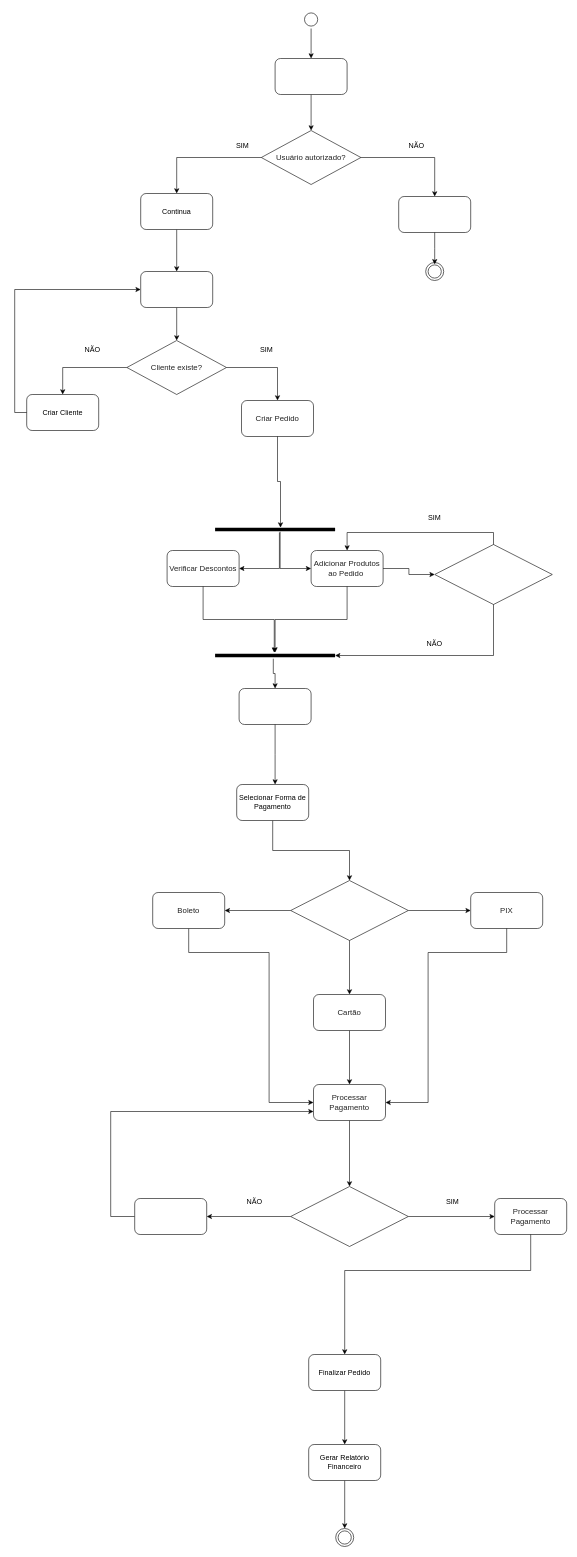
The diagram is 577 pixels wide and 1557 high, and some of its shapes have lost their labels. The shapes that lost their labels are listed below. From the top down, each one's centre as x and y in pixels, then its label:
At (310,76): "Autenticar Usuário".
At (434,214): "Acesso Negado".
At (176,289): "Selecionar Cliente".
At (493,574): "adicionar mais items?".
At (274,706): "Calcular Total do Pedido".
At (349,910): "Tipo de Pagamento".
At (170,1216): "Pagamento Recusado".
At (349,1216): "Pagamento aprovado?".
